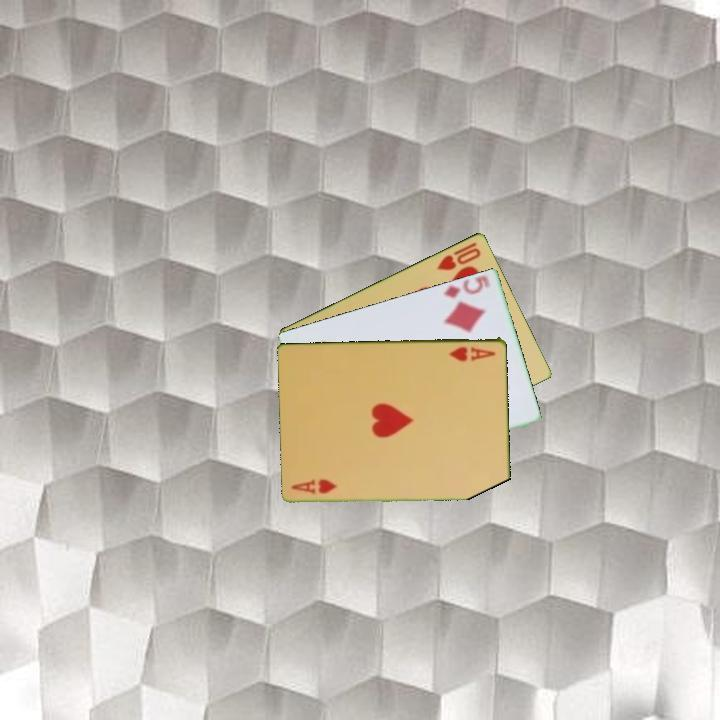10h: (433, 238, 484, 273)
5d: (440, 272, 493, 301)
Ah: (446, 343, 499, 363), (288, 477, 340, 496)
